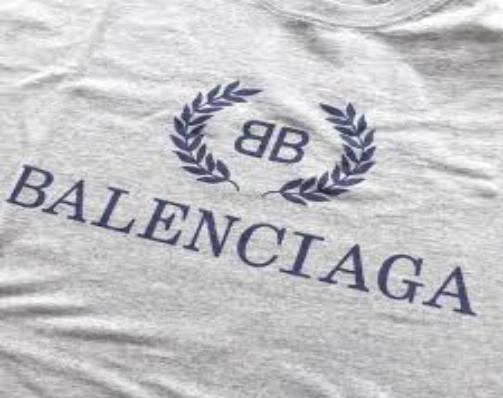BALENCIAGA: (4, 162, 476, 318), (234, 114, 308, 168)
